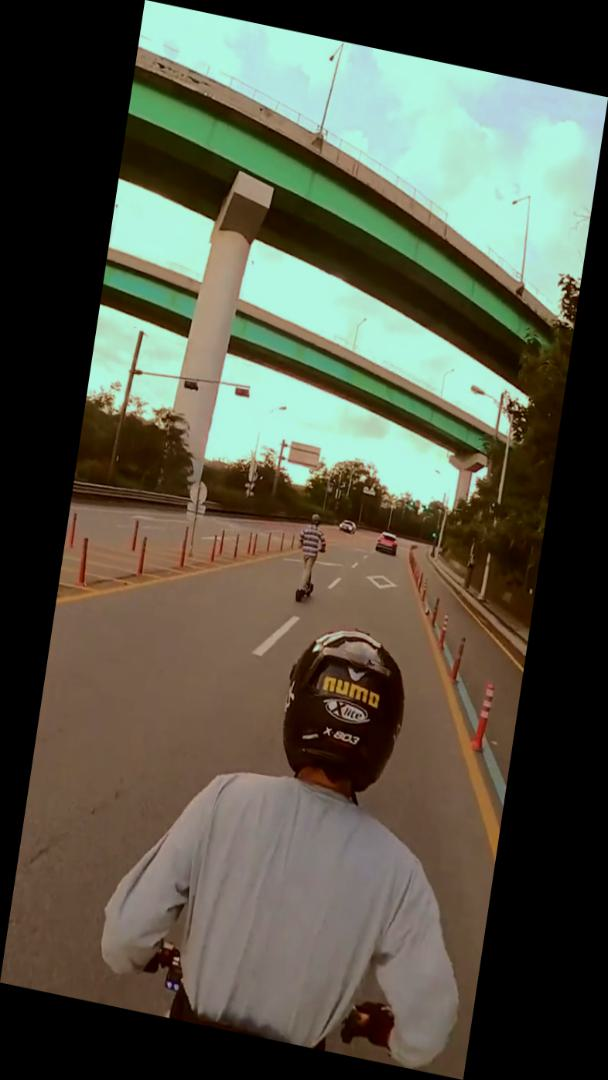helmet: (288, 509, 332, 609)
